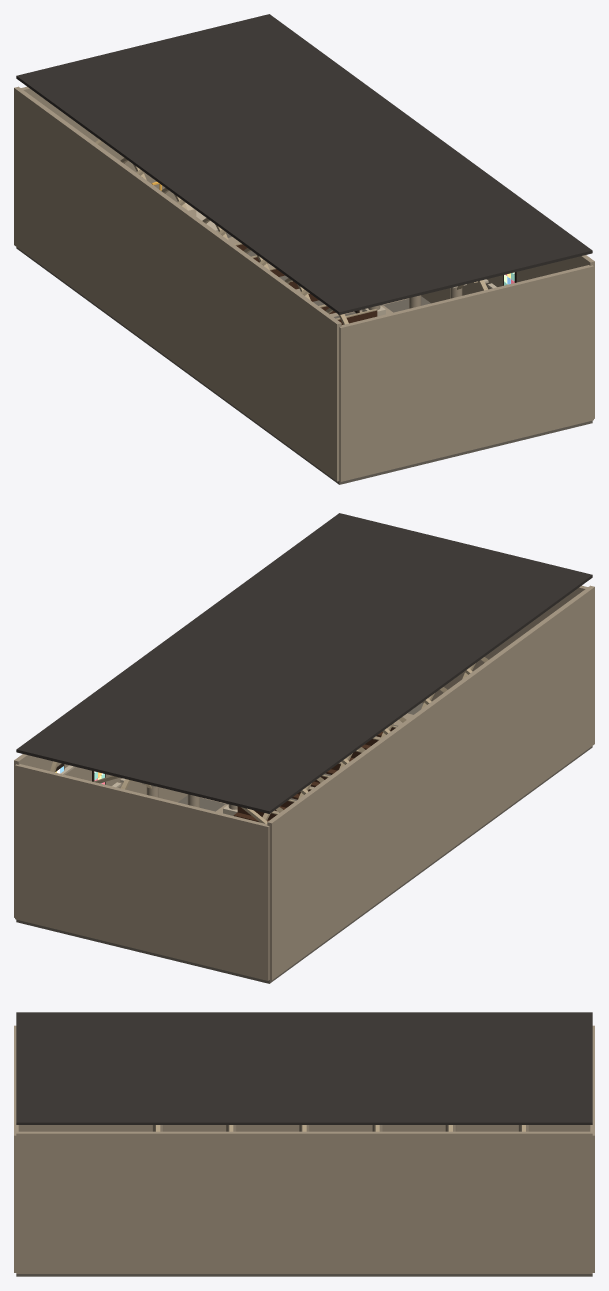
File: paris.glb
The picture shows the model from 3 angles, top to bottom: view 1: azimuth 30°, elevation 25°; view 2: azimuth 150°, elevation 25°; view 3: azimuth 270°, elevation 25°; orthographic projection. The views are drawn at different scales.
Bounding box in the file's own units: 19.35 × 12.38 × 42.35.
